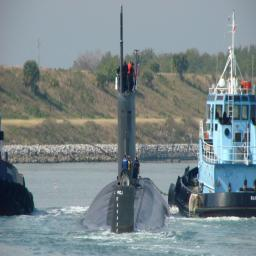submarine: (81, 7, 173, 236)
